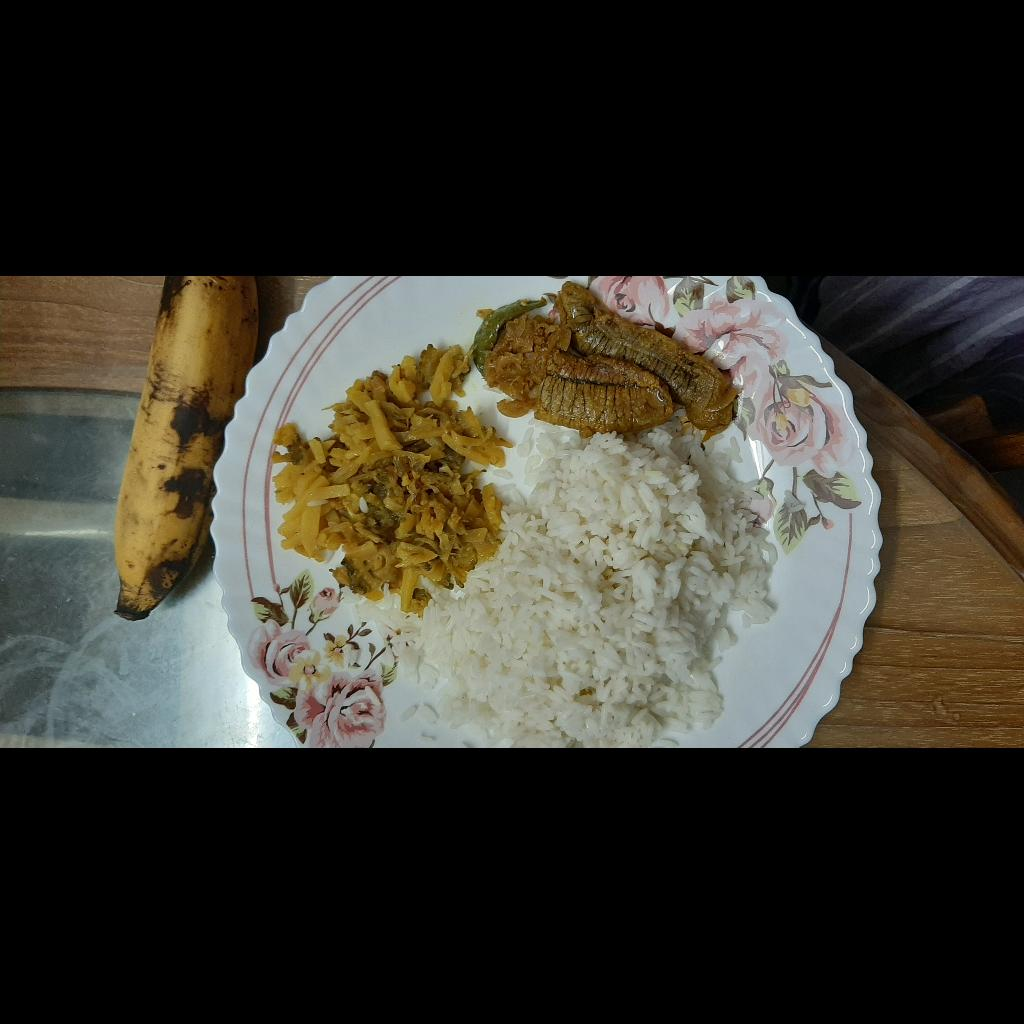banana: (765, 401, 907, 747)
fish: (294, 588, 557, 747)
korola-vaji: (544, 492, 672, 571), (583, 648, 609, 682)
potato: (516, 410, 754, 681)
rice: (242, 276, 673, 606)
